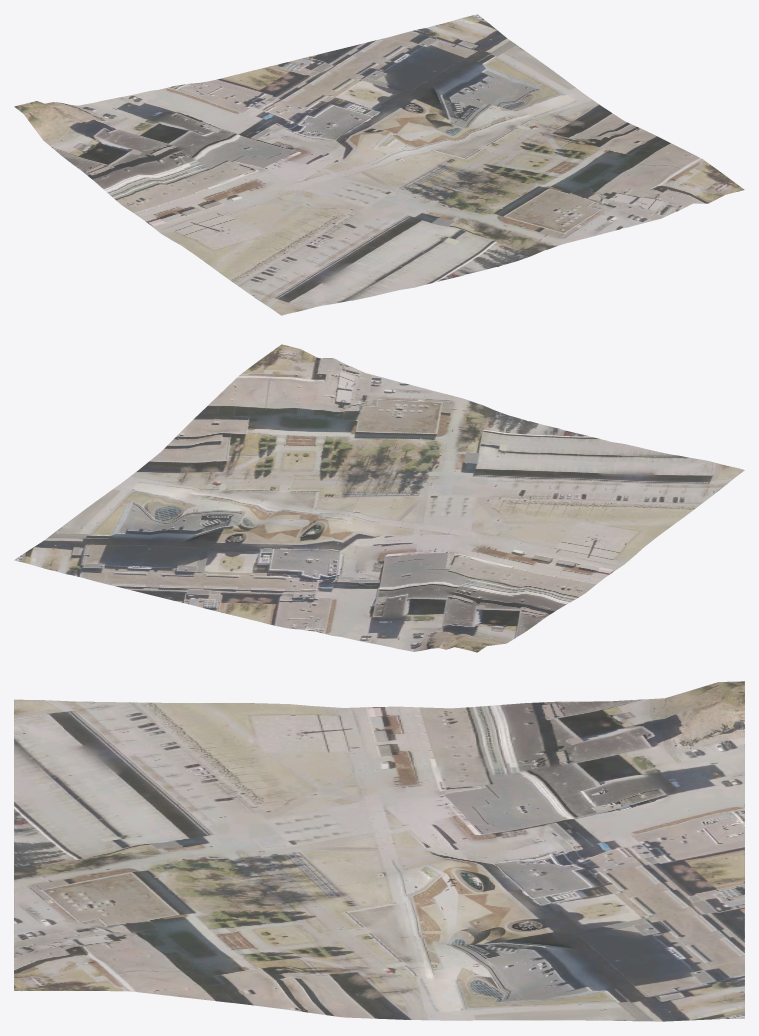
Rendered from CM_Terrain_24492302_6815493.fbx.
3 views of the same model, one above another, from view 1: azimuth 30°, elevation 25°; view 2: azimuth 150°, elevation 25°; view 3: azimuth 270°, elevation 25° (orthographic). The views are drawn at different scales.
Parts seen in each view (by area): view 1: CM_Terrain_24492302_6815493_LOD0; view 2: CM_Terrain_24492302_6815493_LOD0; view 3: CM_Terrain_24492302_6815493_LOD0.
Boxes of the visible parts, x1,y1,x2,y2 form: CM_Terrain_24492302_6815493_LOD0: [14, 14, 744, 315]; CM_Terrain_24492302_6815493_LOD0: [14, 344, 744, 652]; CM_Terrain_24492302_6815493_LOD0: [14, 681, 744, 1021].
Size of what is drawn, in the model's own units: 205 by 13.69 by 205.
